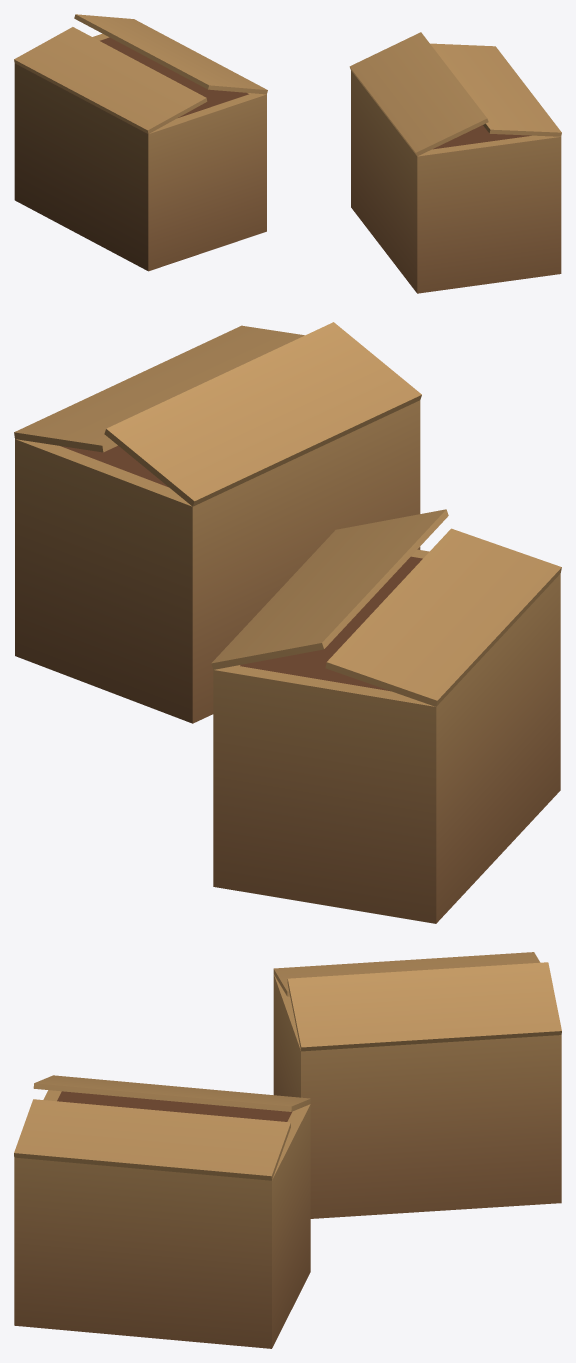
The model's file is confectionery boxes.fbx.
3 views of the same model, one above another, from view 1: azimuth 30°, elevation 25°; view 2: azimuth 150°, elevation 25°; view 3: azimuth 270°, elevation 25° (orthographic). The views are drawn at different scales.
Visible parts, largest first — view 1: confectionery_boxes; view 2: confectionery_boxes; view 3: confectionery_boxes.
Boxes of the visible parts, bbox=[...] form: confectionery_boxes: bbox=[14, 14, 561, 293]; confectionery_boxes: bbox=[14, 322, 561, 923]; confectionery_boxes: bbox=[14, 952, 561, 1348].
Bounding box in the file's own units: 250 × 106 × 258.
Materials: 1 (1 with a texture image).
